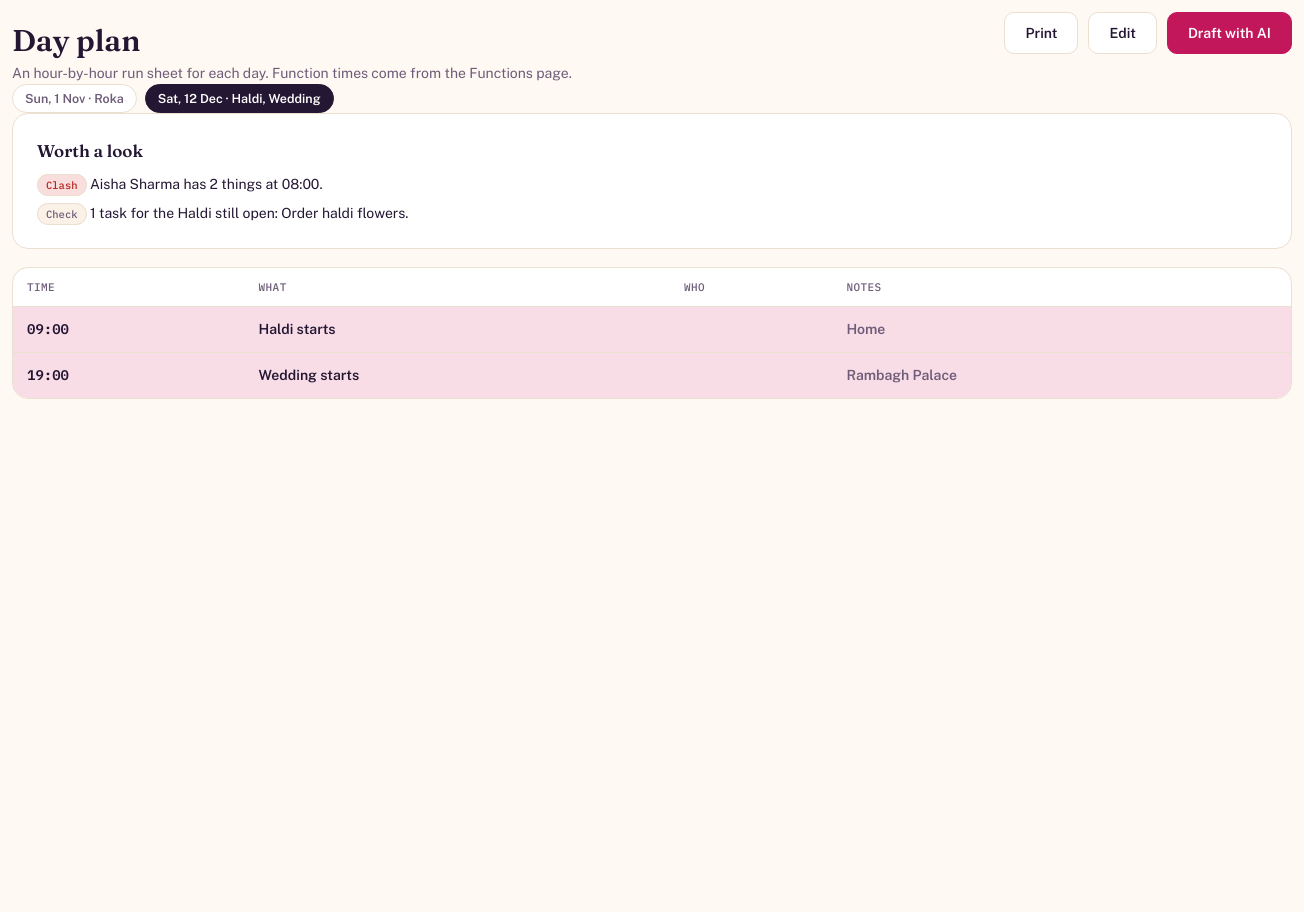
Test: Day plan › drafts with the AI, lets the couple edit, and saves only their steps
The image size is (1304, 912).
Click the button "Draft with AI". click: point(1229, 33)
box: top-left (1167, 12), bottom-right (1292, 54)
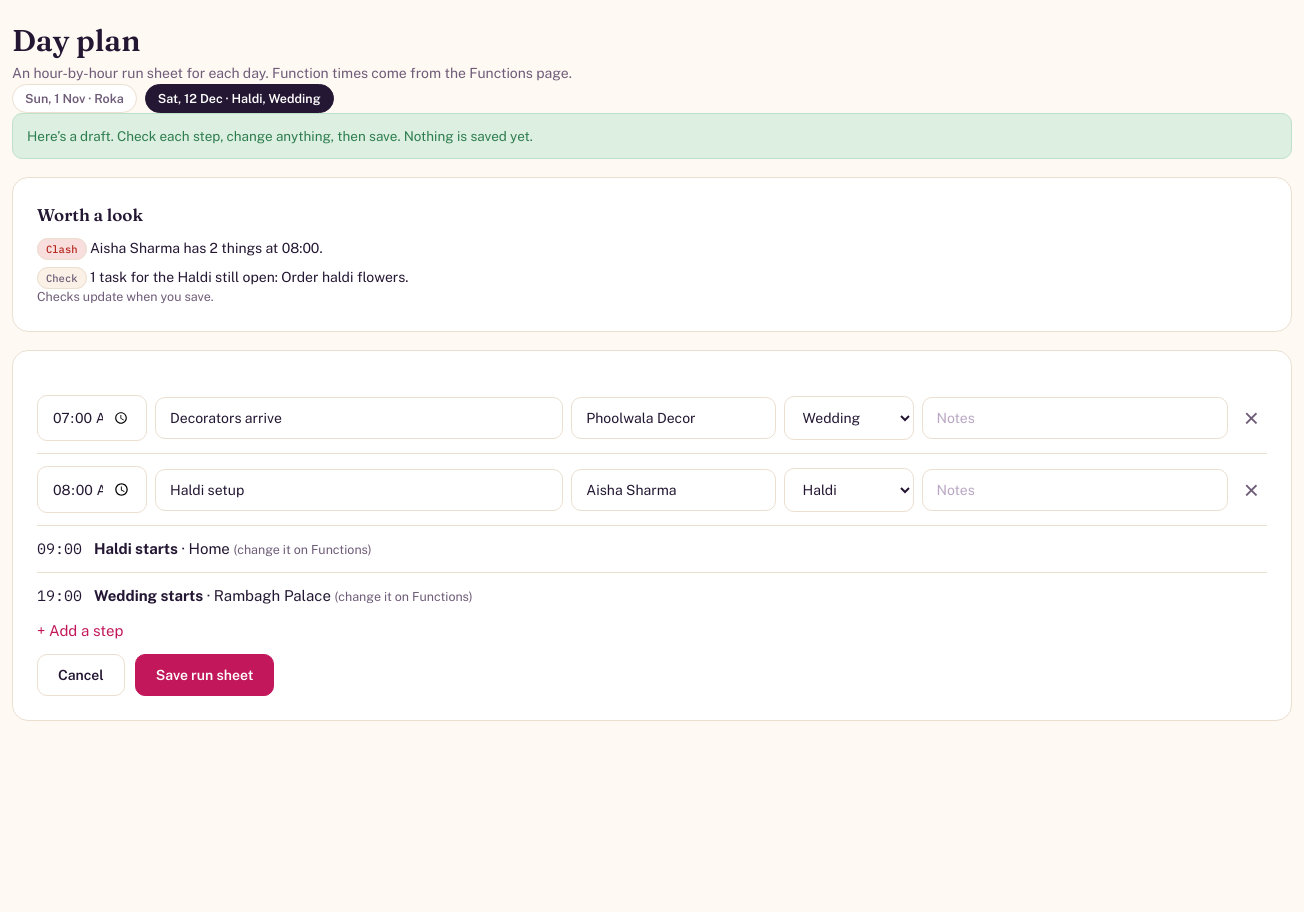
Result: the form named "Edit run sheet" shows "Haldi starts · Home (change it on Functions)" at top-left (12, 350), bottom-right (1292, 721)
Click the button named "Remove Haldi setup". click: point(1251, 490)
box: top-left (1236, 472), bottom-right (1267, 506)
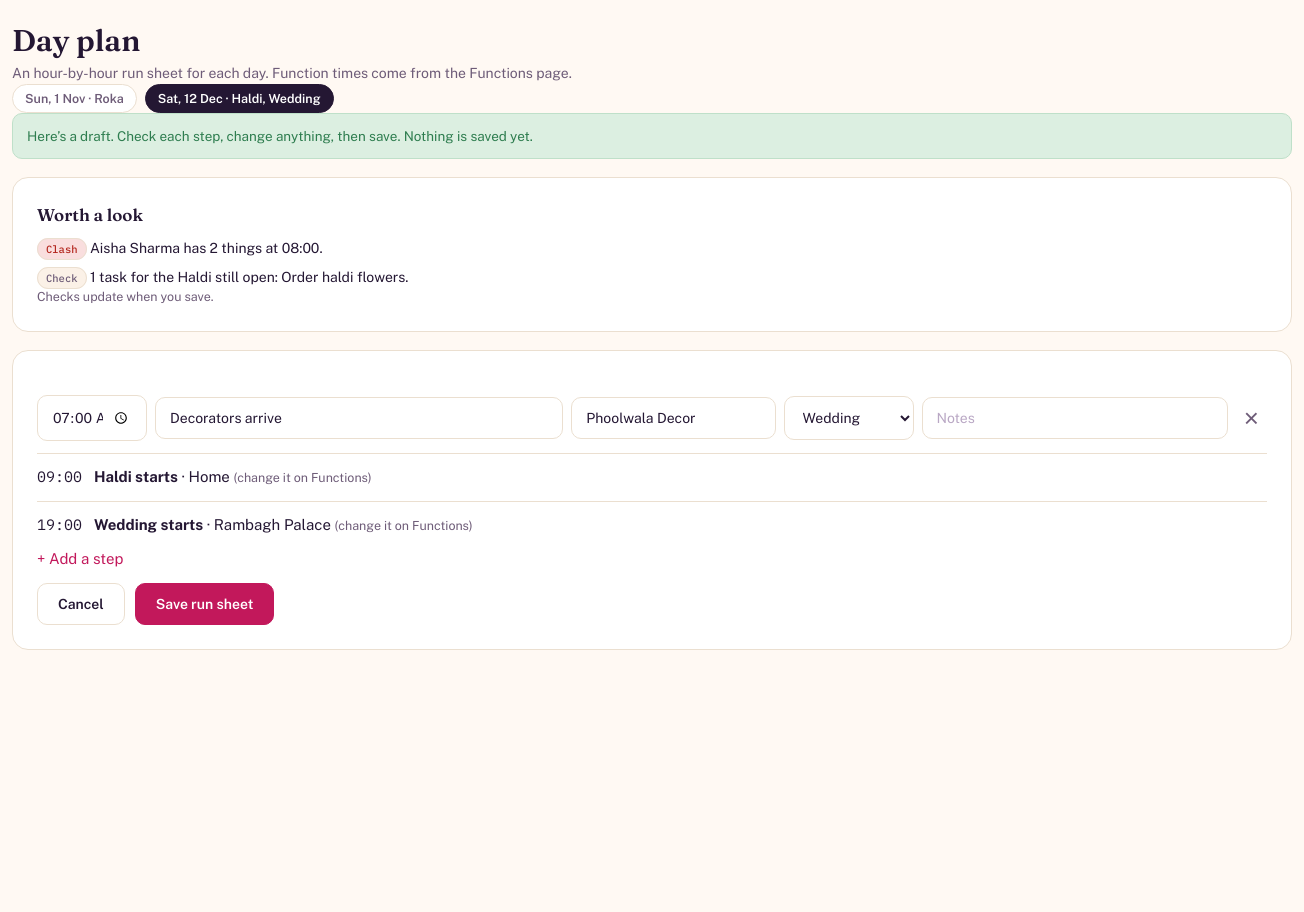
Replace the text in the field named "Who for Decorators arrive" with "Aisha Sharma". click: point(674, 418)
box: top-left (571, 397), bottom-right (776, 439)
Click the button "+ Add a step". click: point(80, 559)
box: top-left (37, 548), bottom-right (123, 571)
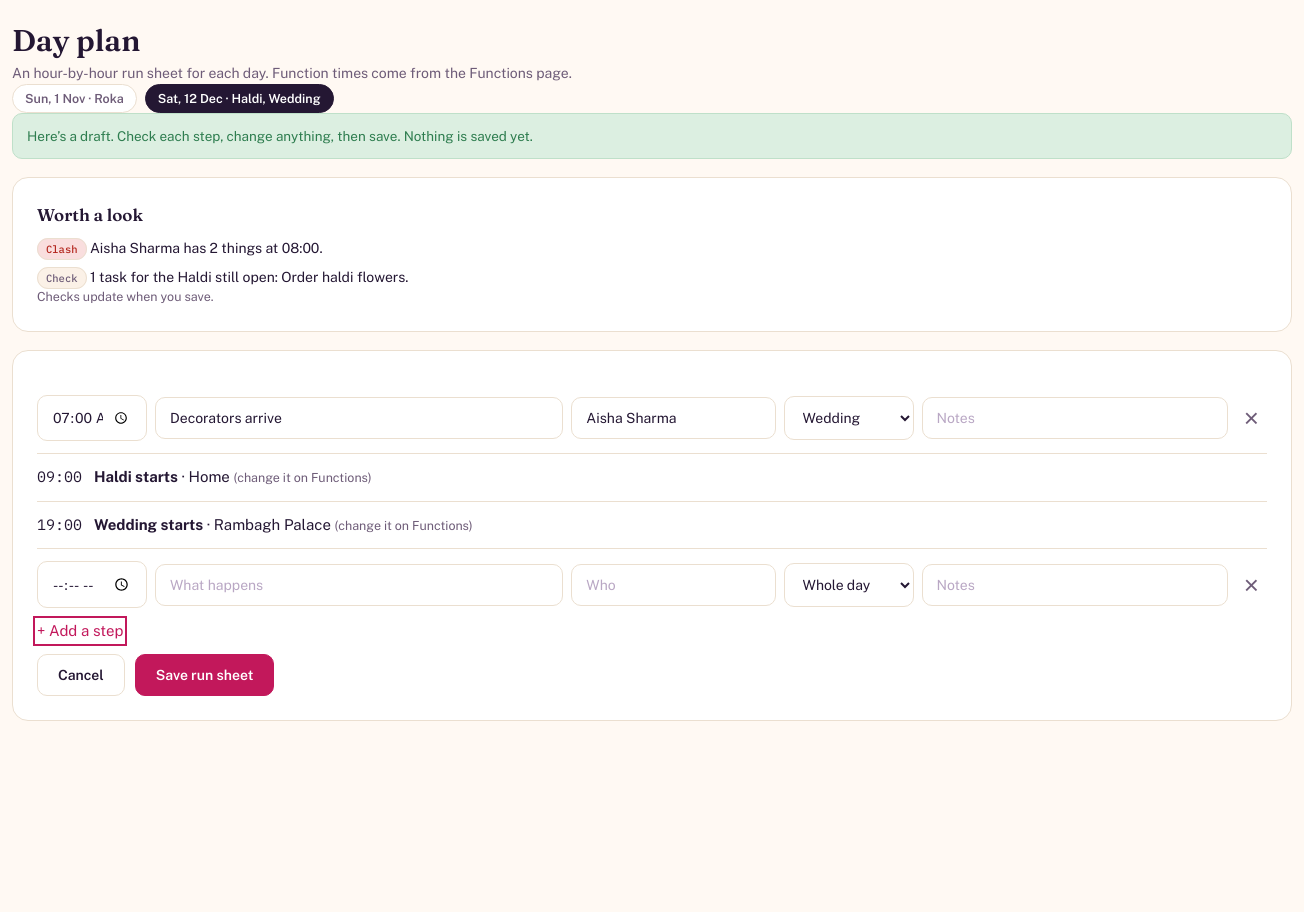
Type "18:00" into the time field named "Time for new step". click: point(92, 585)
box: top-left (37, 561), bottom-right (147, 608)
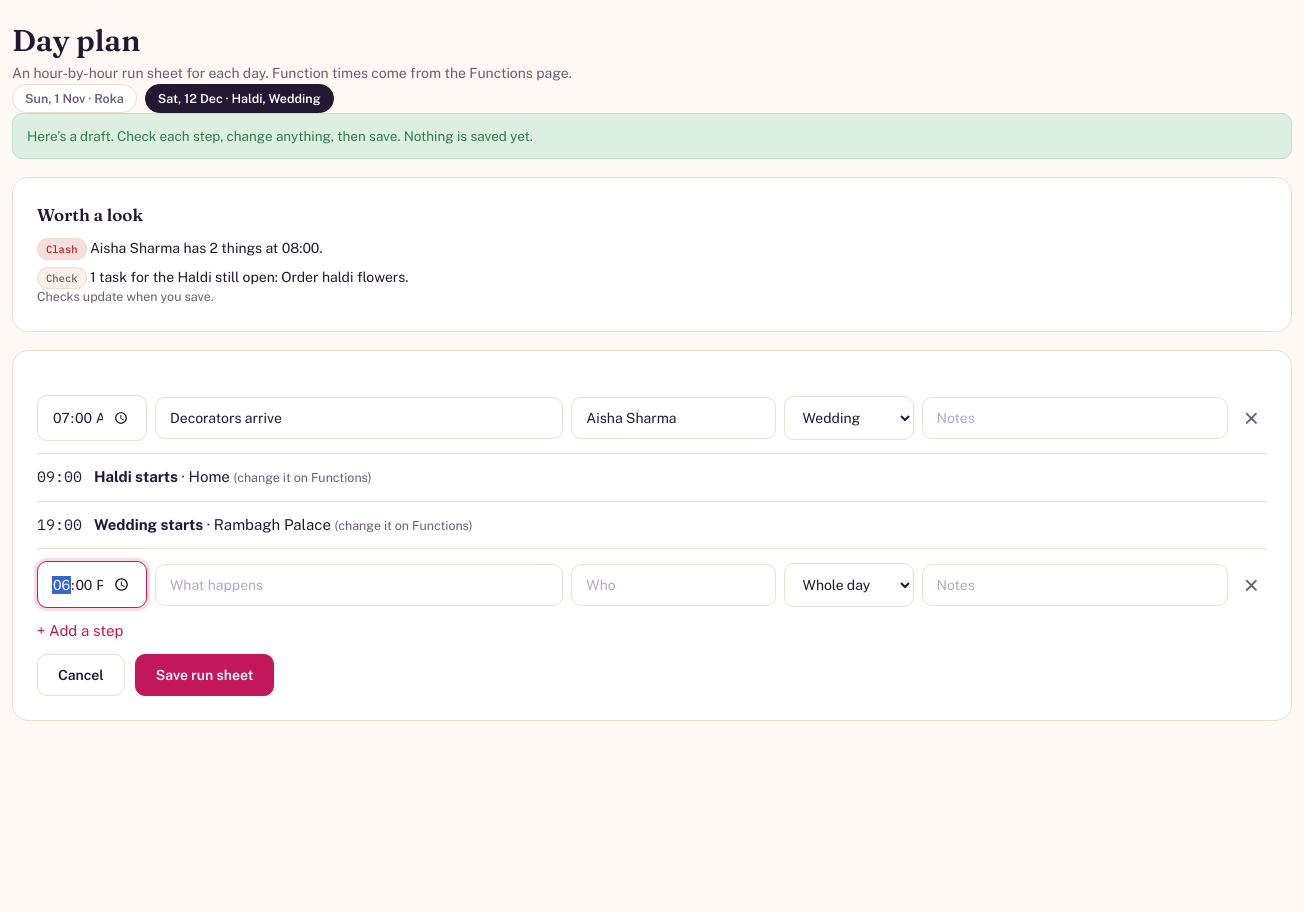
Type "Baraat leaves" into the field labelled "What happens". click: point(359, 584)
box: top-left (155, 564), bottom-right (563, 606)
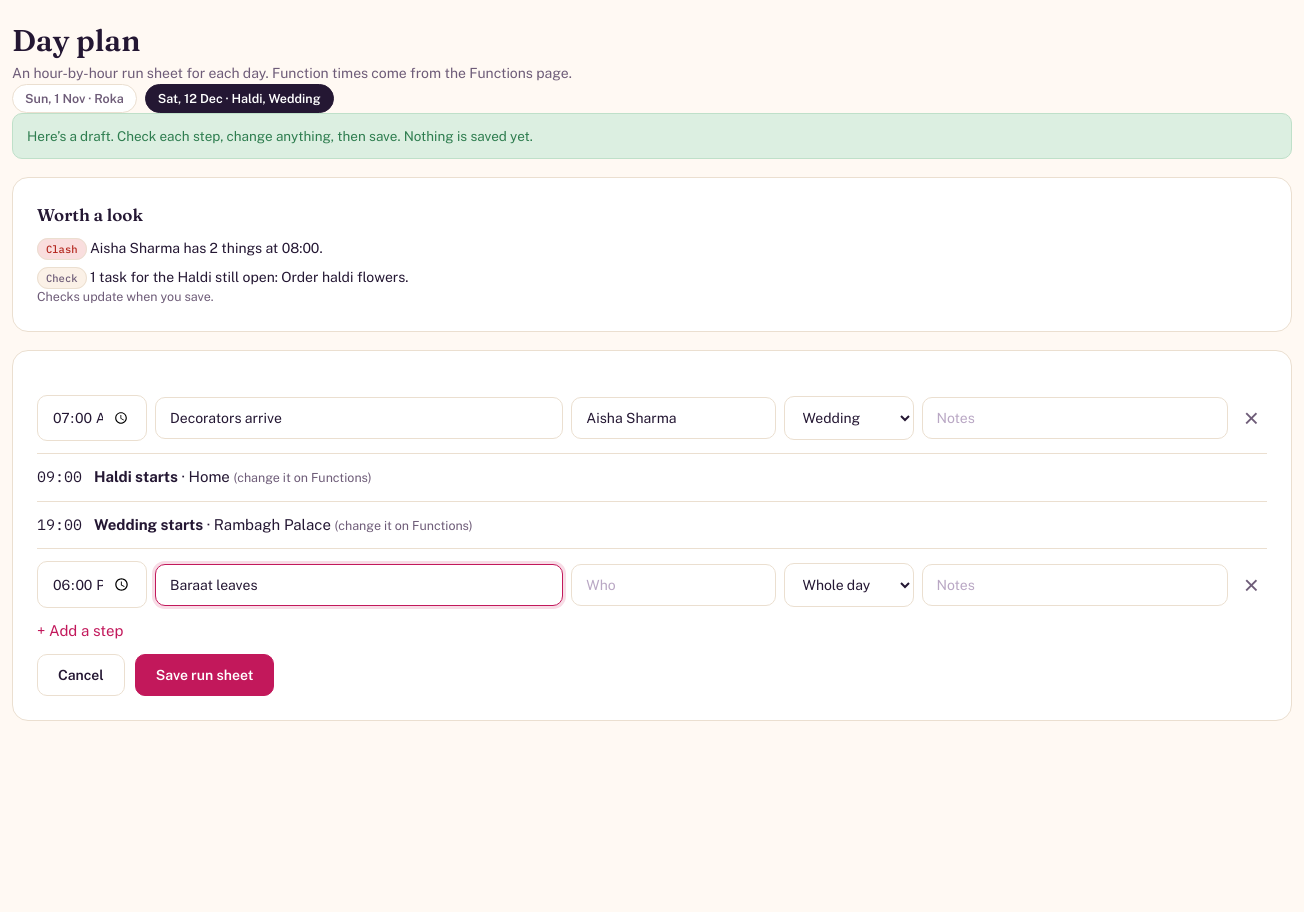
Click the button "Save run sheet". click: point(205, 675)
box: top-left (135, 654), bottom-right (274, 696)
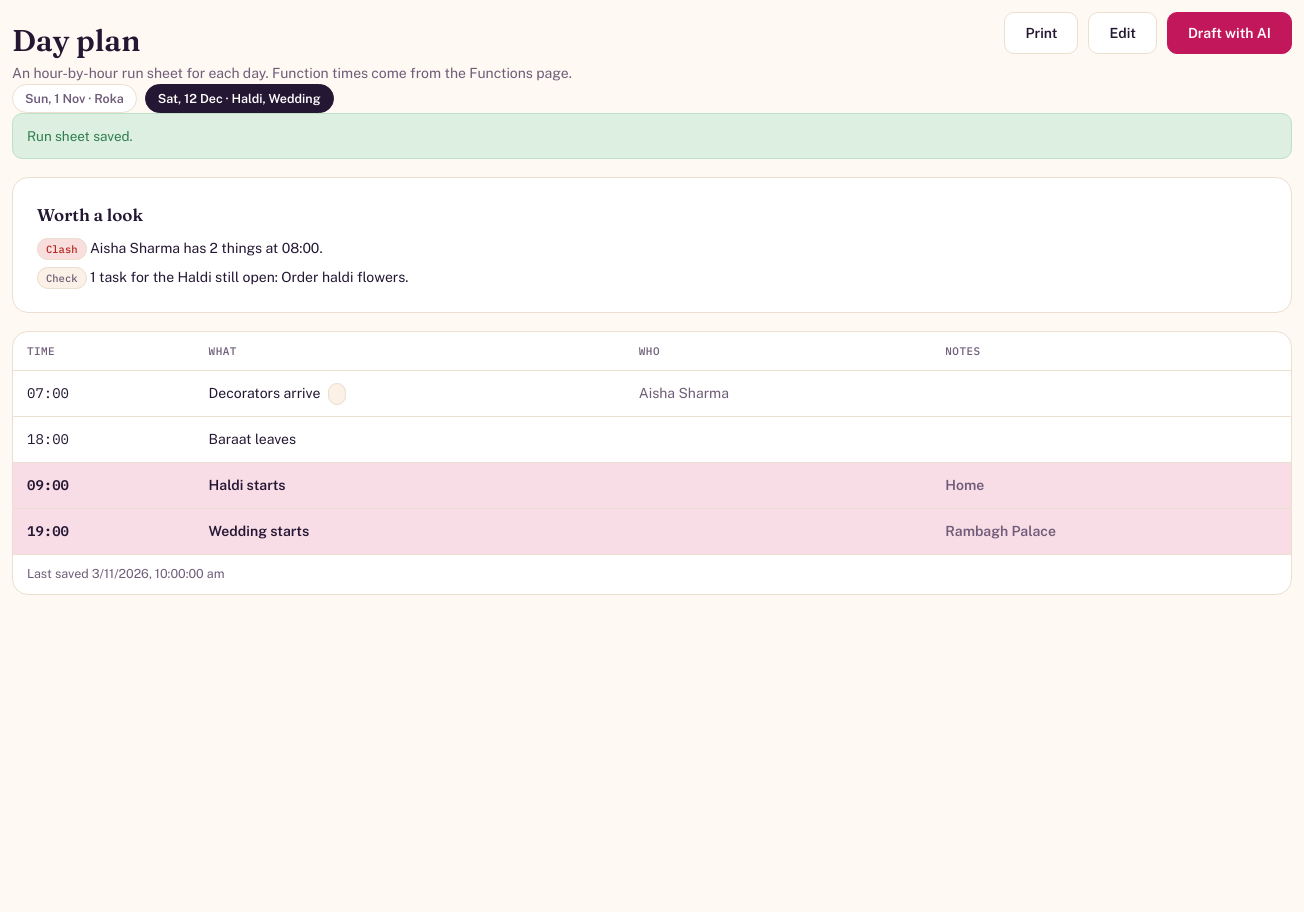
Result: the message reads "Run sheet saved." at top-left (27, 128), bottom-right (133, 144)
Result: the element named "Run sheet" shows "Baraat leaves" at top-left (209, 431), bottom-right (296, 447)
